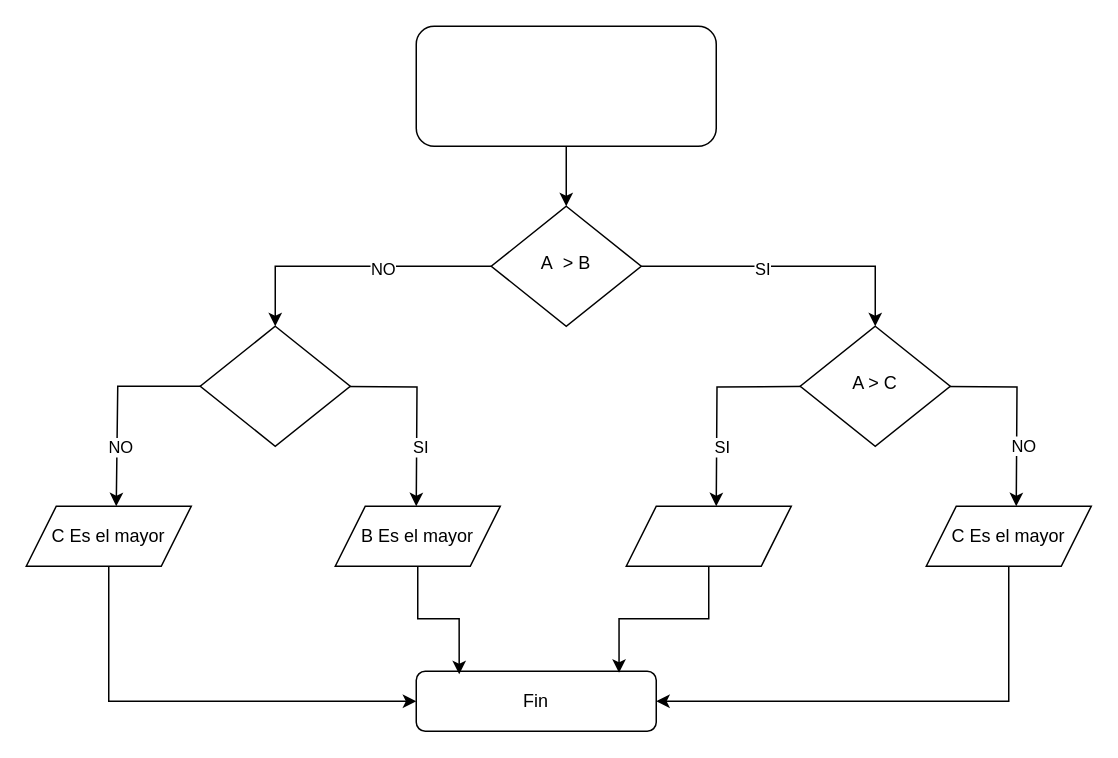
Some shapes in this 1118 by 758 pixel diagram are drawn without their labels. Each missing label, with the box of its shape:
A Es el mayor: (625, 505, 791, 566)
B > C: (199, 325, 350, 446)
¿Cuál es el mayor? A = 2 B = 4 C = 6: (415, 25, 716, 146)
